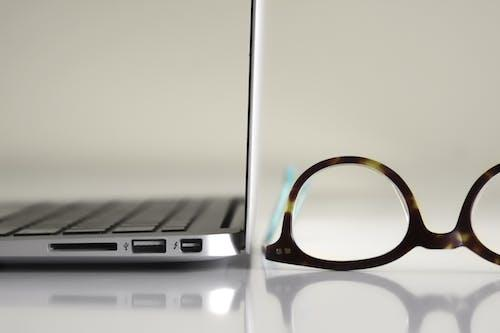eyeglasses: (256, 147, 500, 284)
